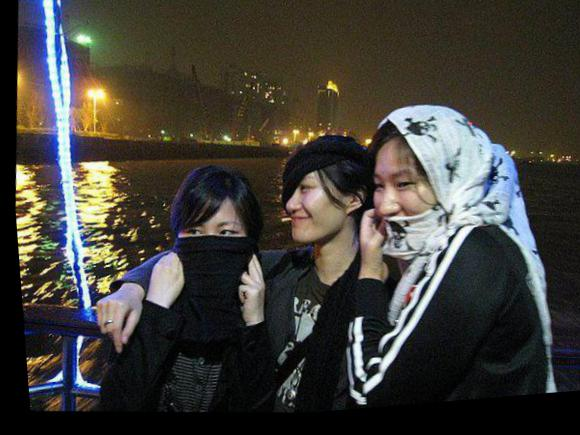NONE: (279, 170, 330, 253)
OK: (168, 206, 251, 294)
WRONG: (364, 160, 441, 259)
